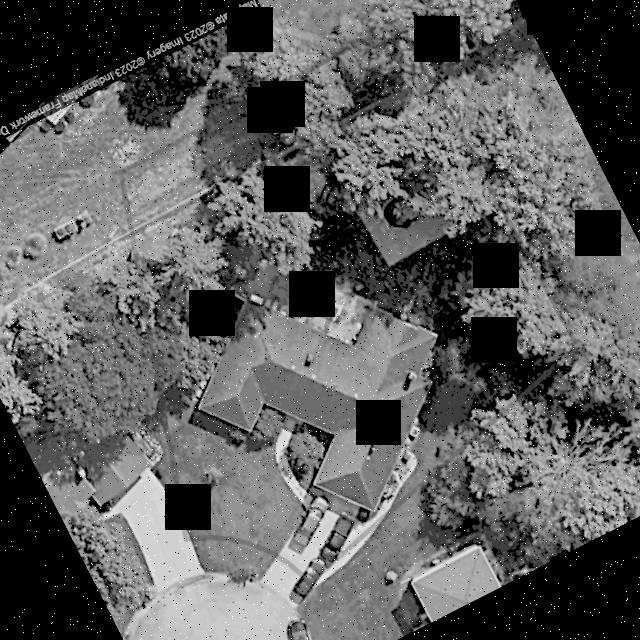Driveway: (275, 416, 417, 579)
Extra Driveway: (262, 558, 313, 605)
Extra Lawn: (192, 540, 275, 581)
Extra Sidewalk: (185, 541, 205, 576)
House: (199, 265, 437, 511)
Other: (361, 197, 444, 266), (409, 425, 421, 438)
